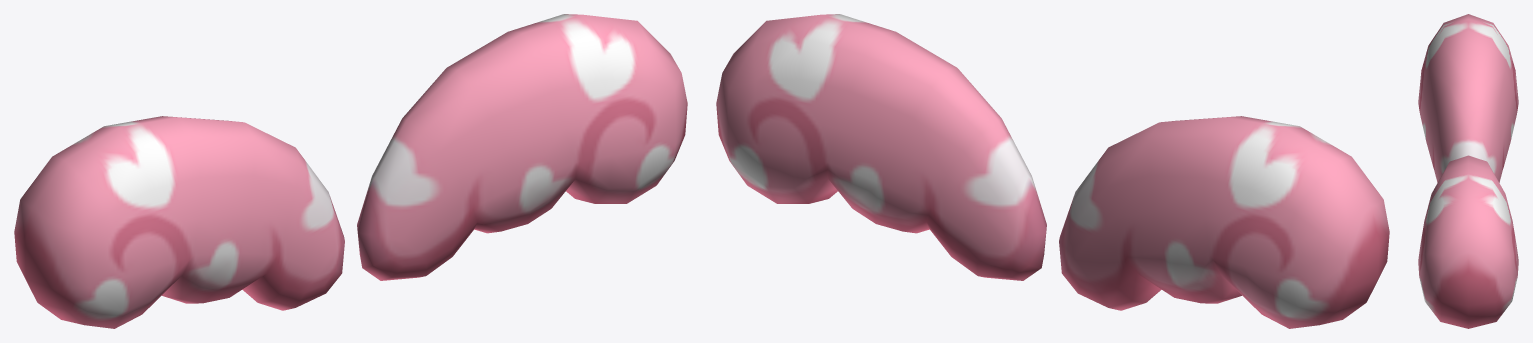
The model's file is back_acc_08.FBX.
3 renders of one model, left to right at view 1: azimuth 30°, elevation 25°; view 2: azimuth 150°, elevation 25°; view 3: azimuth 270°, elevation 25°, orthographic. The views are drawn at different scales.
Visible parts, largest first — view 1: back_acc_08; view 2: back_acc_08; view 3: back_acc_08.
Part boxes in pixels (x1=…): back_acc_08: x1=14, y1=14, x2=687, y2=328; back_acc_08: x1=716, y1=14, x2=1389, y2=328; back_acc_08: x1=1418, y1=14, x2=1518, y2=328.
Size of the model in its own units: 37.56 by 12.27 by 7.
